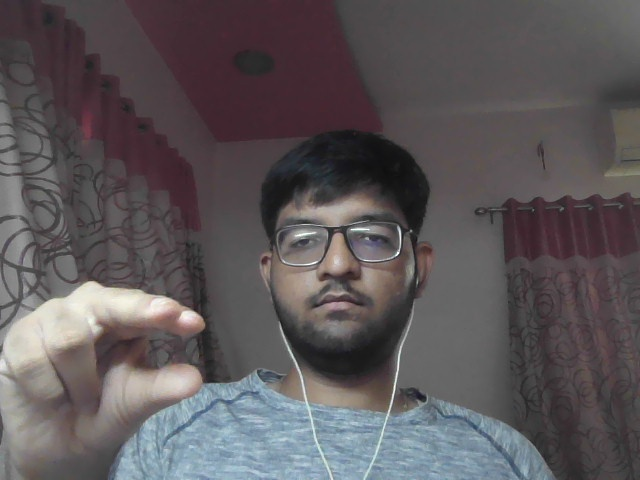ના: (1, 251, 210, 478)
